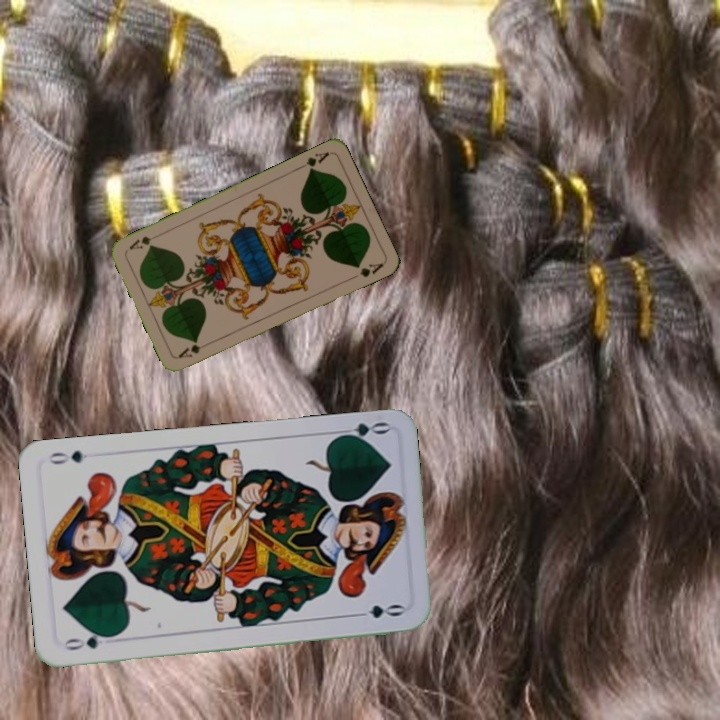GA: (294, 148, 332, 174), (174, 338, 213, 361)
GO: (331, 418, 391, 445), (59, 628, 118, 653)
